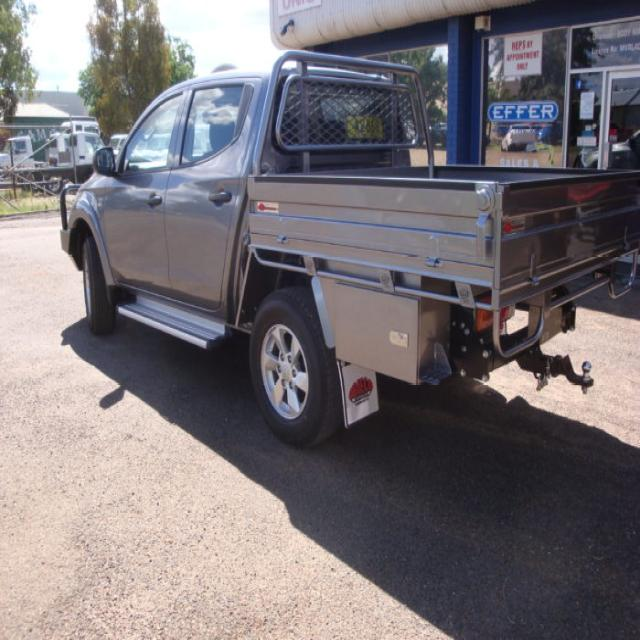light_vehicle: (53, 44, 639, 457)
